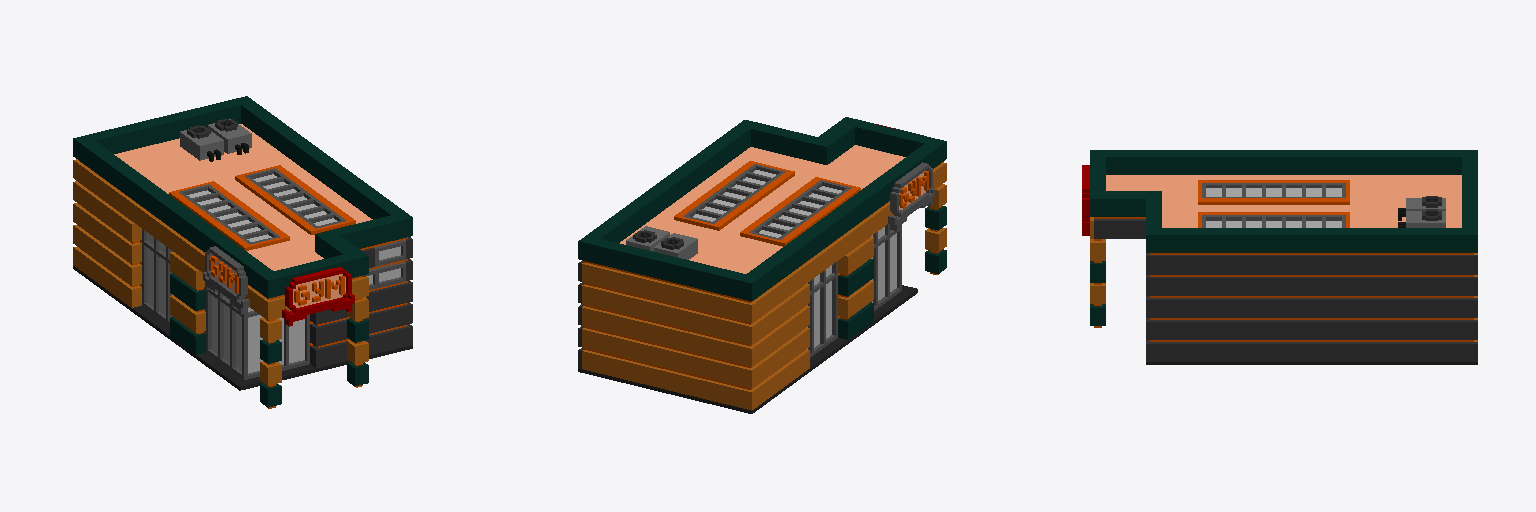
The picture shows the model from 3 angles: view 1: azimuth 30°, elevation 25°; view 2: azimuth 150°, elevation 25°; view 3: azimuth 270°, elevation 25°; orthographic projection.
Visible parts, largest first — view 1: object 1; view 2: object 1; view 3: object 1.
Part boxes in pixels (bbox=[...]): object 1: bbox=[73, 96, 412, 408]; object 1: bbox=[578, 117, 946, 413]; object 1: bbox=[1082, 150, 1477, 364].
Bounding box in the file's own units: 5.2 × 3.6 × 9.9.
1 materials, 1 textured.